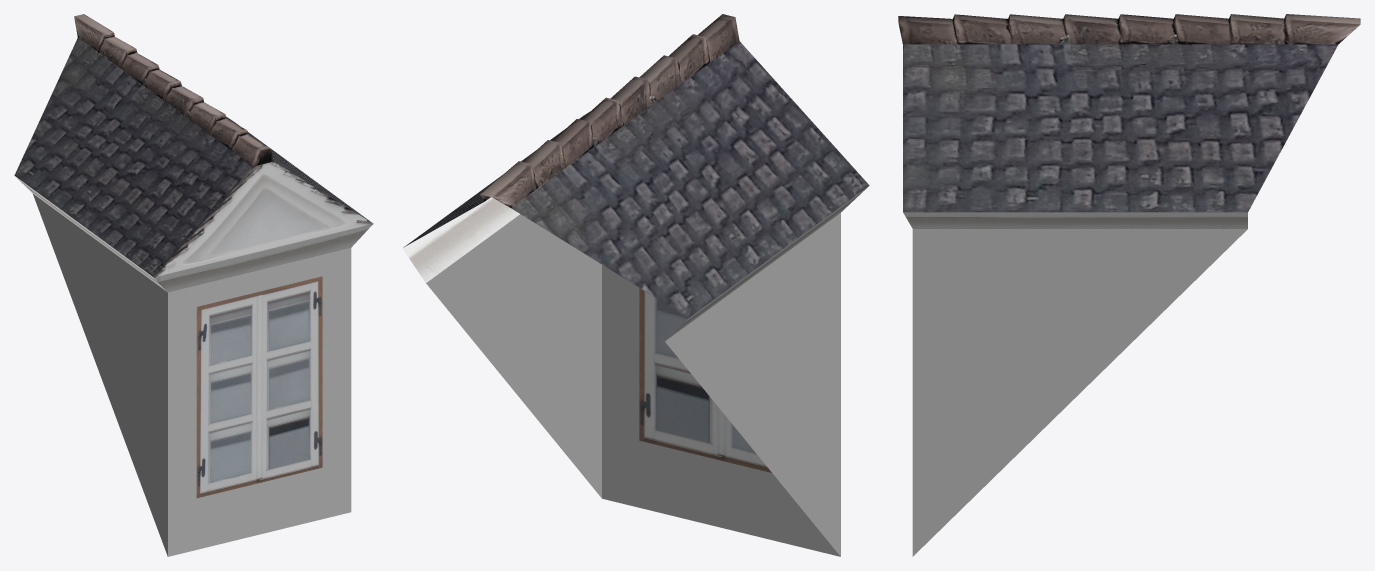
File: RoofWindow1.fbx
3 views of the same model, side by side, from view 1: azimuth 30°, elevation 25°; view 2: azimuth 150°, elevation 25°; view 3: azimuth 270°, elevation 25° (orthographic). The views are drawn at different scales.
Parts seen in each view (by area): view 1: RoofWindow1; view 2: RoofWindow1; view 3: RoofWindow1.
Part boxes in pixels (<box>): RoofWindow1: <box>14,14,373,556</box>; RoofWindow1: <box>402,14,869,556</box>; RoofWindow1: <box>898,14,1360,556</box>.
Size of the model in its own units: 150 by 255 by 220.
